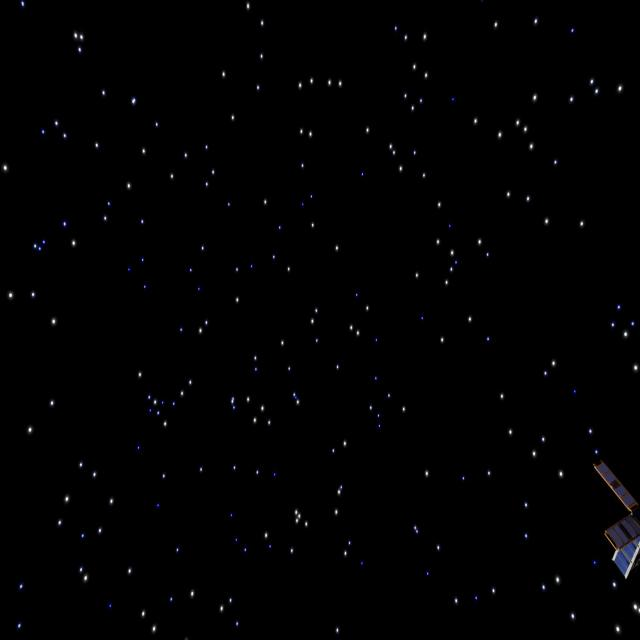medium_debris: (594, 448, 640, 578)
